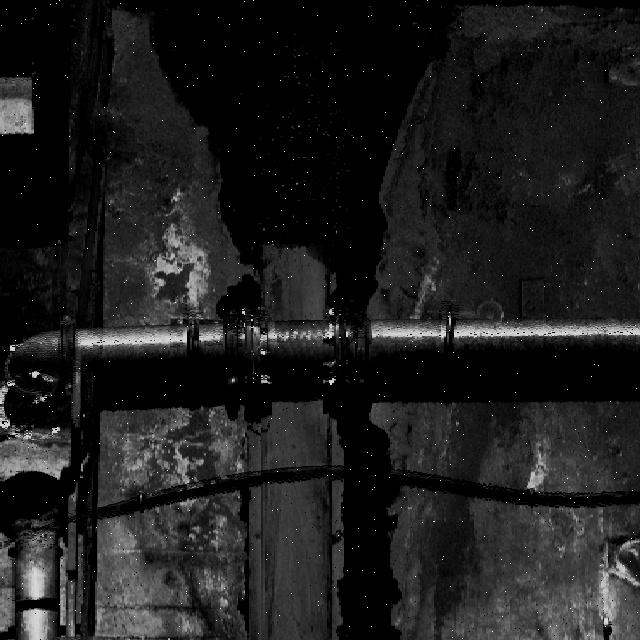leakage: (125, 0, 476, 325), (317, 402, 418, 639)
